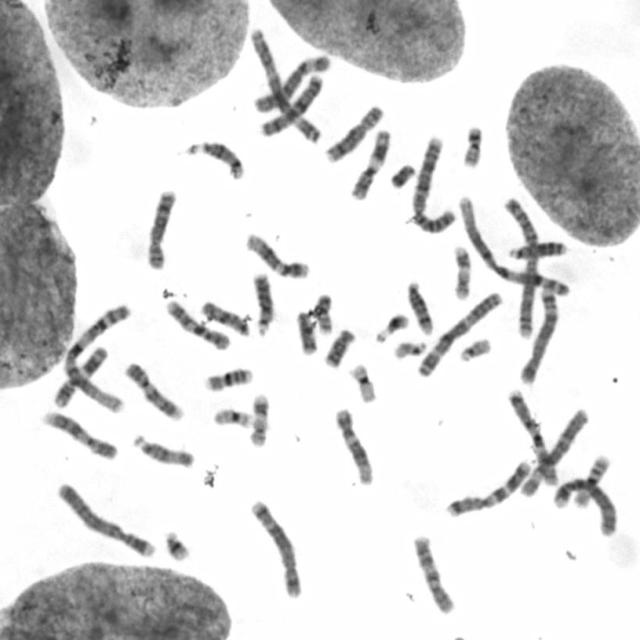A1: (454, 192, 572, 299), (59, 300, 132, 415)
A2: (500, 195, 542, 338), (408, 132, 458, 235)
A3: (246, 24, 323, 144), (414, 288, 504, 379)
B4: (53, 478, 158, 560), (549, 473, 618, 539)
B5: (247, 495, 304, 600), (516, 282, 561, 386)
C10: (410, 531, 458, 616), (162, 296, 232, 352)
C11: (51, 343, 110, 408), (347, 125, 393, 202)
C12: (242, 228, 310, 280), (332, 404, 375, 486)
C6: (516, 404, 590, 499), (250, 51, 333, 114)
C7: (504, 384, 560, 488), (442, 456, 532, 520)
C8: (321, 102, 386, 164), (143, 186, 178, 270)
C9: (39, 407, 120, 463), (122, 359, 185, 423)
D13: (250, 271, 276, 337), (506, 238, 567, 261)
D14: (183, 136, 244, 181), (404, 276, 434, 336)
D15: (131, 431, 194, 469), (198, 298, 252, 338)
E16: (572, 451, 612, 508), (201, 364, 254, 393)
E17: (246, 390, 271, 449), (449, 242, 473, 302)
E18: (320, 325, 357, 369), (294, 308, 318, 356)
F19: (347, 360, 378, 405), (210, 404, 253, 430)
F20: (458, 122, 486, 170), (313, 291, 335, 335)
G21: (372, 309, 411, 344), (162, 525, 194, 564)
G22: (458, 334, 493, 364), (391, 338, 429, 360)
X: (256, 75, 328, 139)
Y: (386, 160, 416, 190)
